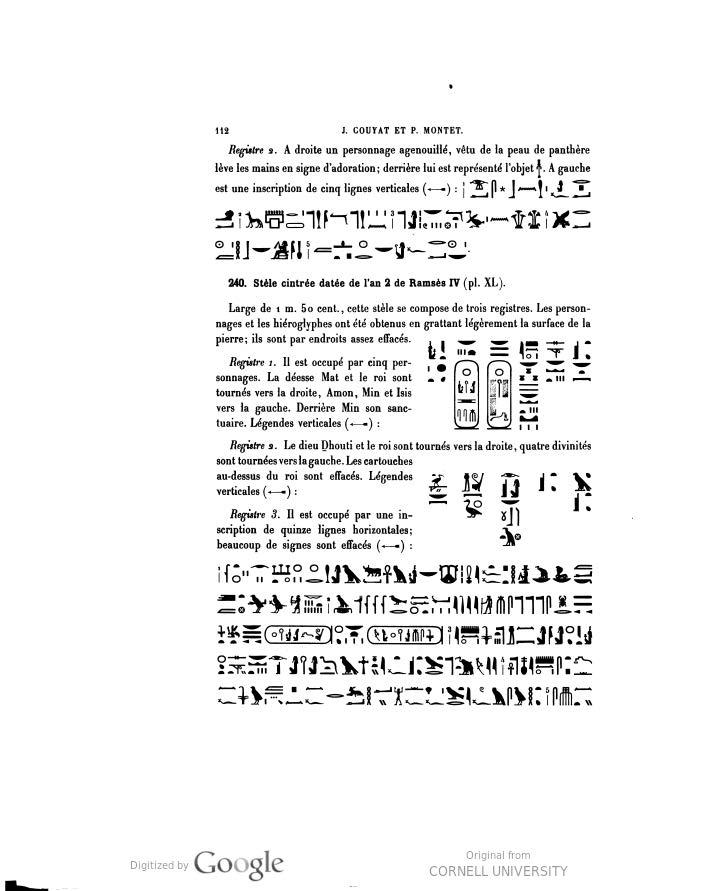circle: (365, 614, 458, 654), (444, 355, 484, 435), (482, 352, 518, 435), (265, 618, 338, 652)
